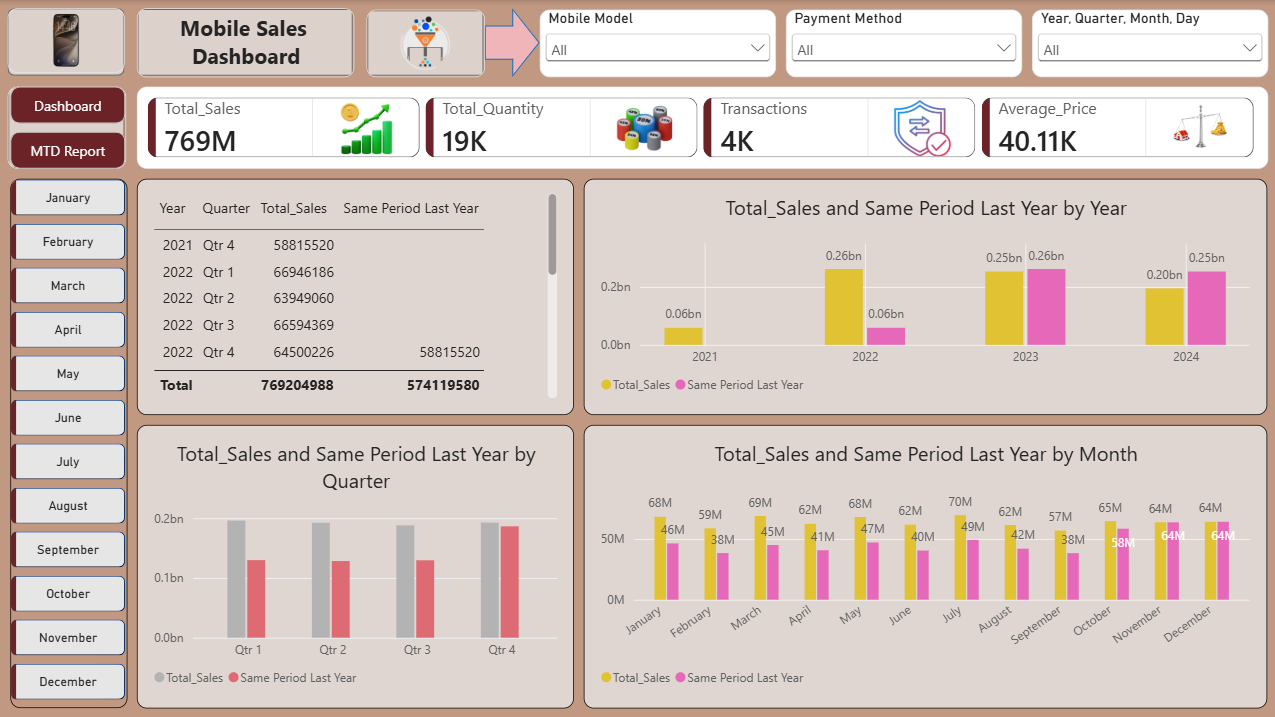

The page's visual inventory and layout, read from the dashboard file:
{"tool":"powerbi","page":{"name":"Same Period Last Year","canvas":[1280,720],"ordinal":2},"visuals":[{"type":"shape","box":[9.6,8.3,116.9,67.4],"z":0},{"type":"image","box":[9.6,8.3,116.9,64.6],"z":1000},{"type":"shape","box":[9.6,86.6,118.3,82.5],"z":2000},{"type":"cardVisual","fields":{"Data":["Mobile_Sales_Data.Total_Sales","Mobile_Sales_Data.Total_Quantity","Mobile_Sales_Data.Transactions","Mobile_Sales_Data.Average_Price"]},"box":[138.9,86.6,1131.9,82.5],"z":3000},{"type":"slicer","fields":{"Values":["Mobile_Sales_Data.Mobile Model"]},"box":[541.9,9.6,236.5,67.4],"z":4000},{"type":"slicer","fields":{"Values":["Mobile_Sales_Data.Payment Method"]},"box":[788,9.6,236.5,67.4],"z":5000},{"type":"slicer","fields":{"Values":["Custom_Calendar.Date.Variation.Date Hierarchy.Year","Custom_Calendar.Date.Variation.Date Hierarchy.Quarter","Custom_Calendar.Date.Variation.Date Hierarchy.Month","Custom_Calendar.Date.Variation.Date Hierarchy.Day"]},"box":[1034.2,9.6,236.5,67.4],"z":6000},{"type":"shape","box":[368.6,9.6,118.3,67.4],"z":7000},{"type":"shape","box":[486.8,8.3,55,68.8],"z":8000},{"type":"image","box":[368.6,16.5,118.3,53.6],"z":9000},{"type":"shape","box":[138.9,8.3,217.3,68.8],"z":10000},{"type":"textbox","box":[138.9,12.4,218.7,64.6],"z":11000},{"type":"tableEx","fields":{"Values":["Custom_Calendar.Date.Variation.Date Hierarchy.Year","Custom_Calendar.Date.Variation.Date Hierarchy.Quarter","Mobile_Sales_Data.Total_Sales","Mobile_Sales_Data.Same Period Last Year"]},"box":[138.9,178.8,437.3,236.5],"z":13000},{"type":"clusteredColumnChart","fields":{"Category":["Custom_Calendar.Date.Variation.Date Hierarchy.Year","Custom_Calendar.Date.Variation.Date Hierarchy.Quarter"],"Y":["Mobile_Sales_Data.Total_Sales","Mobile_Sales_Data.Same Period Last Year"]},"box":[585.9,178.8,683.5,236.5],"z":14000},{"type":"clusteredColumnChart","fields":{"Category":["Custom_Calendar.Date.Variation.Date Hierarchy.Year","Custom_Calendar.Date.Variation.Date Hierarchy.Quarter","Custom_Calendar.Date.Variation.Date Hierarchy.Month","Custom_Calendar.Date.Variation.Date Hierarchy.Day"],"Y":["Mobile_Sales_Data.Total_Sales","Mobile_Sales_Data.Same Period Last Year"]},"box":[585.9,425,683.5,283.3],"z":15000},{"type":"clusteredColumnChart","fields":{"Category":["Custom_Calendar.Date.Variation.Date Hierarchy.Year","Custom_Calendar.Date.Variation.Date Hierarchy.Quarter"],"Y":["Mobile_Sales_Data.Total_Sales","Mobile_Sales_Data.Same Period Last Year"]},"box":[138.9,425,437.3,283.3],"z":16000},{"type":"pageNavigator","box":[12.4,86.6,115.5,82.5],"z":17000},{"type":"advancedSlicerVisual","fields":{"Values":["Custom_Calendar.Date.Variation.Date Hierarchy.Month"]},"box":[12.4,178.8,116.9,529.5],"z":17001}]}

Visuals, with their boxes in screenshot pixels (x1, y1, x2, y2), scaled from the page's 1280x720 canvas onto the 1275x717 screenshot:
shape: region(10, 8, 126, 75)
image: region(10, 8, 126, 73)
shape: region(10, 86, 127, 168)
cardVisual - Mobile_Sales_Data.Total_Sales x Mobile_Sales_Data.Total_Quantity: region(138, 86, 1266, 168)
slicer - Mobile_Sales_Data.Mobile Model: region(540, 10, 775, 77)
slicer - Mobile_Sales_Data.Payment Method: region(785, 10, 1020, 77)
slicer - Custom_Calendar.Date.Variation.Date Hierarchy.Year x Custom_Calendar.Date.Variation.Date Hierarchy.Quarter: region(1030, 10, 1266, 77)
shape: region(367, 10, 485, 77)
shape: region(485, 8, 540, 77)
image: region(367, 16, 485, 70)
shape: region(138, 8, 355, 77)
textbox: region(138, 12, 356, 77)
tableEx - Custom_Calendar.Date.Variation.Date Hierarchy.Year x Custom_Calendar.Date.Variation.Date Hierarchy.Quarter: region(138, 178, 574, 414)
clusteredColumnChart - Custom_Calendar.Date.Variation.Date Hierarchy.Year x Custom_Calendar.Date.Variation.Date Hierarchy.Quarter: region(584, 178, 1264, 414)
clusteredColumnChart - Custom_Calendar.Date.Variation.Date Hierarchy.Year x Custom_Calendar.Date.Variation.Date Hierarchy.Quarter: region(584, 423, 1264, 705)
clusteredColumnChart - Custom_Calendar.Date.Variation.Date Hierarchy.Year x Custom_Calendar.Date.Variation.Date Hierarchy.Quarter: region(138, 423, 574, 705)
pageNavigator: region(12, 86, 127, 168)
advancedSlicerVisual - Custom_Calendar.Date.Variation.Date Hierarchy.Month: region(12, 178, 129, 705)
